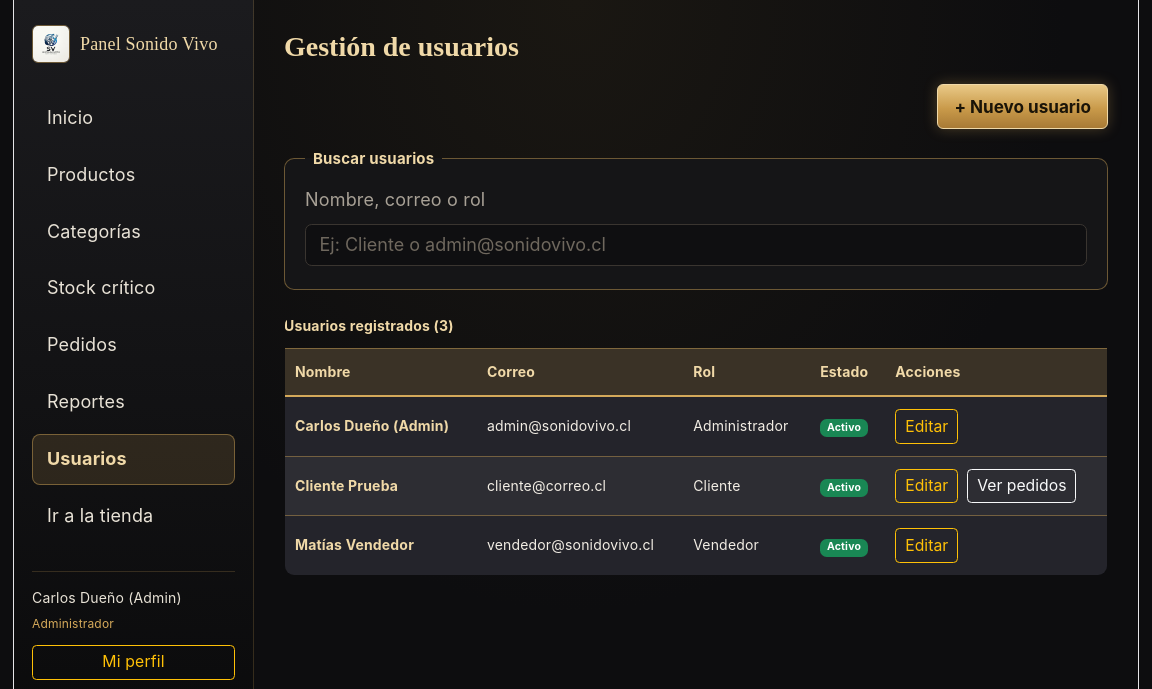
it: Página AdminUsuarios › no permite repetir un correo (409)
This screenshot has width=1152, height=689.
Click the button "+ Nuevo usuario" at {"x": 1023, "y": 106}, box [937, 84, 1108, 129]
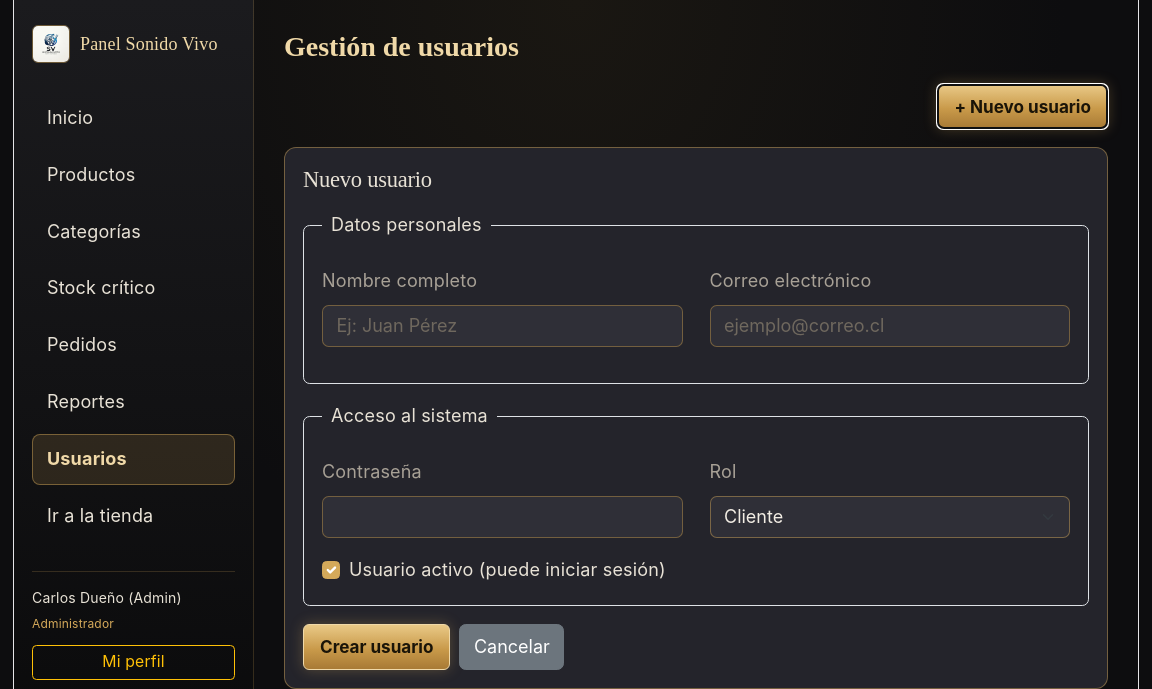
Type "Otro Cliente" into the field labelled "Nombre completo" at {"x": 502, "y": 326}, box [322, 304, 682, 347]
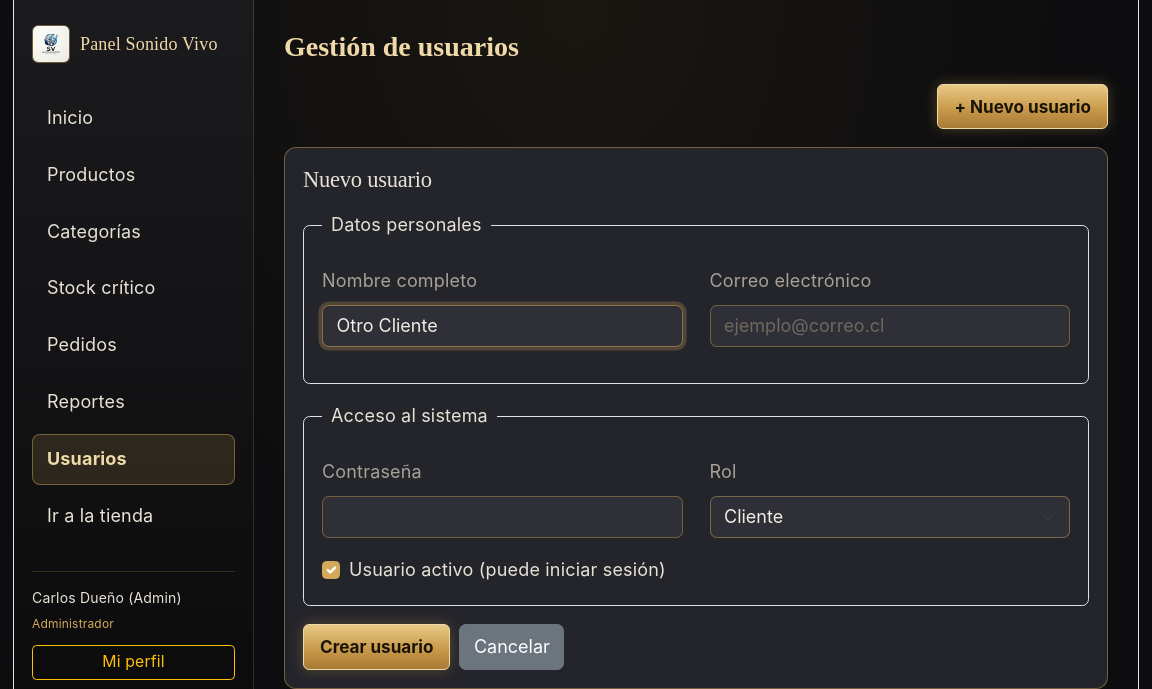
Type "cliente@correo.cl" into the field labelled "Correo electrónico" at {"x": 890, "y": 326}, box [710, 304, 1070, 347]
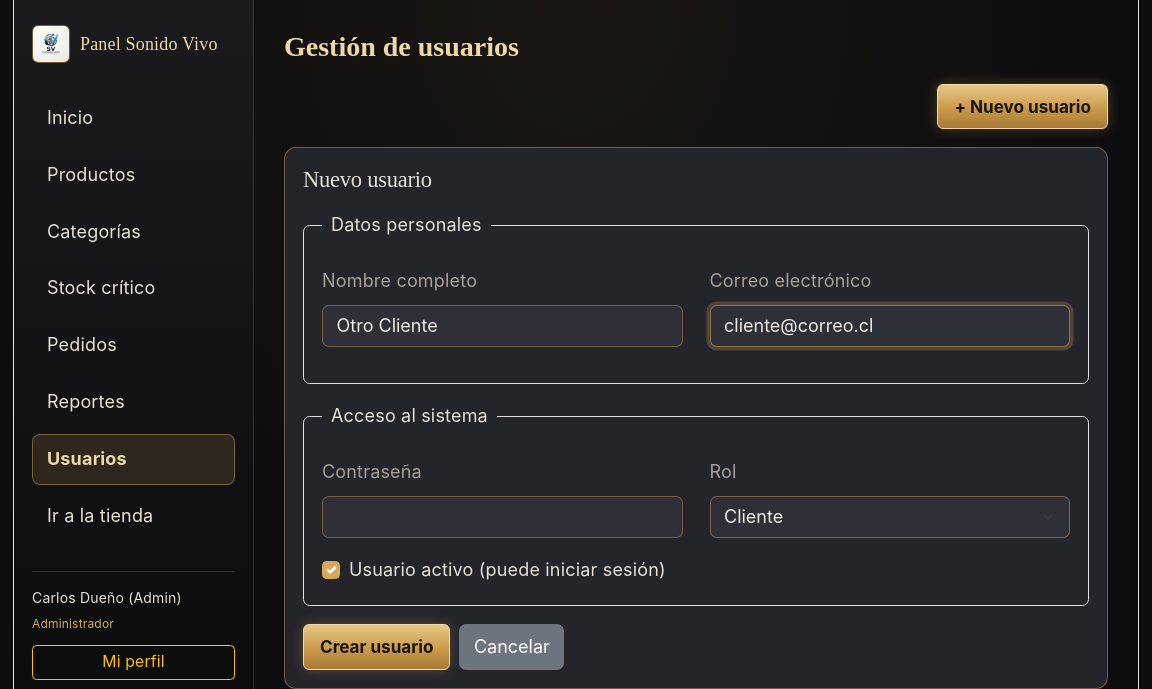
Type "clave123" into the password field labelled "Contraseña" at {"x": 502, "y": 517}, box [322, 496, 682, 538]
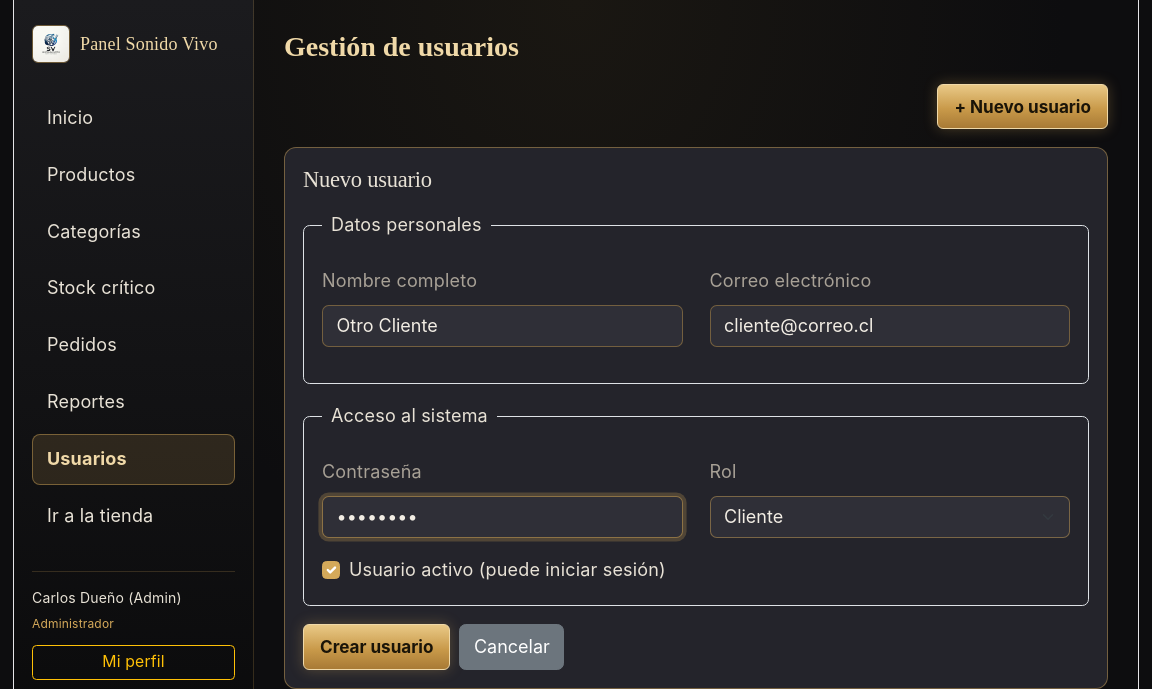
Click the button "Crear usuario" at {"x": 377, "y": 647}, box [303, 624, 450, 670]
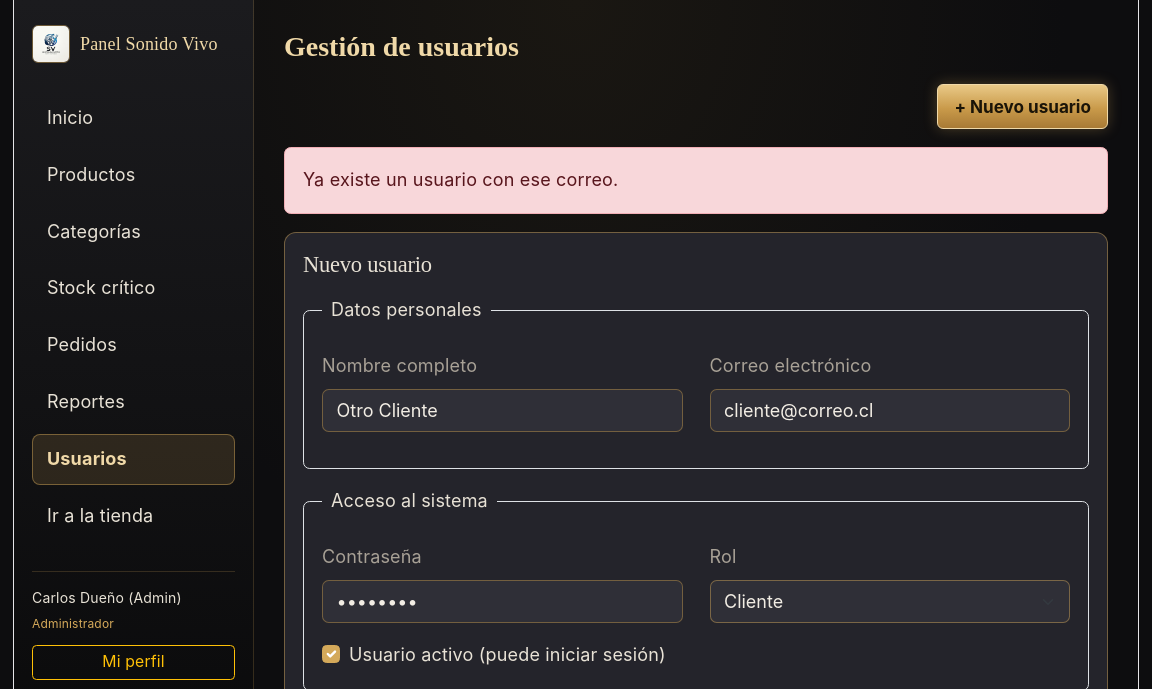
Check: the message reads "Ya existe un usuario con ese correo.", box [303, 169, 618, 190]
